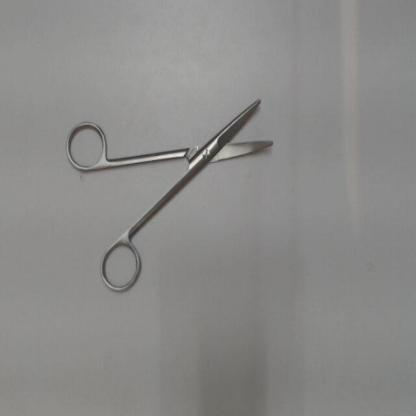Curved Mayo Scissors: (62, 93, 281, 302)
